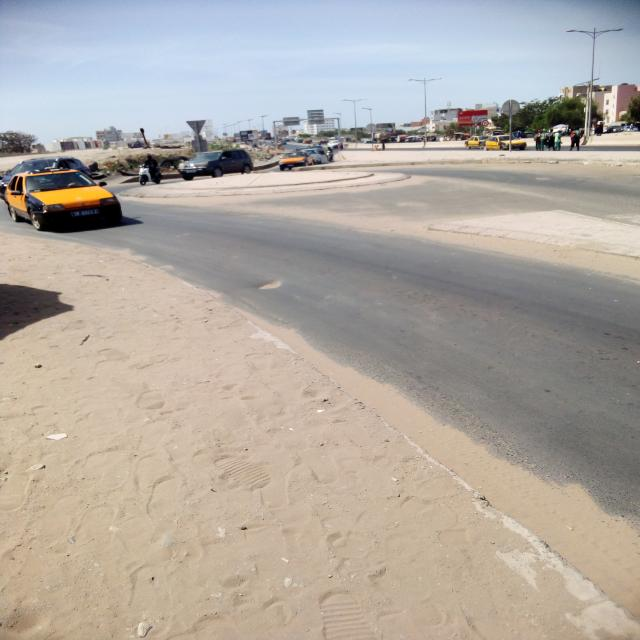moto: (139, 165, 159, 186), (326, 147, 334, 162)
particulier: (1, 157, 93, 192), (179, 151, 254, 181), (304, 150, 329, 165)
taxi: (6, 170, 123, 231), (279, 152, 316, 172), (486, 136, 511, 151), (466, 137, 491, 151), (513, 139, 528, 151)
